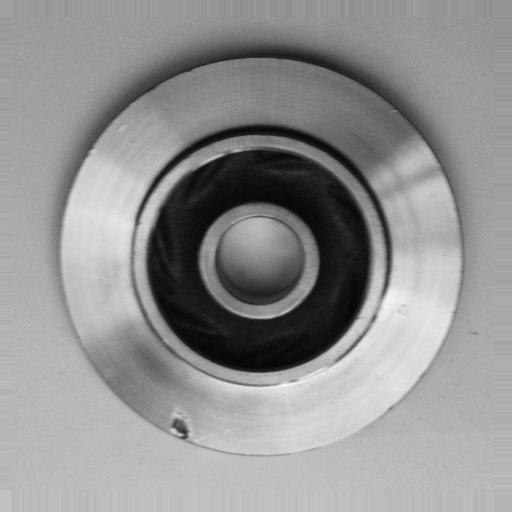crack: (162, 394, 204, 454)
scratch: (269, 364, 340, 397)
unpolished_casting: (57, 54, 466, 463)
